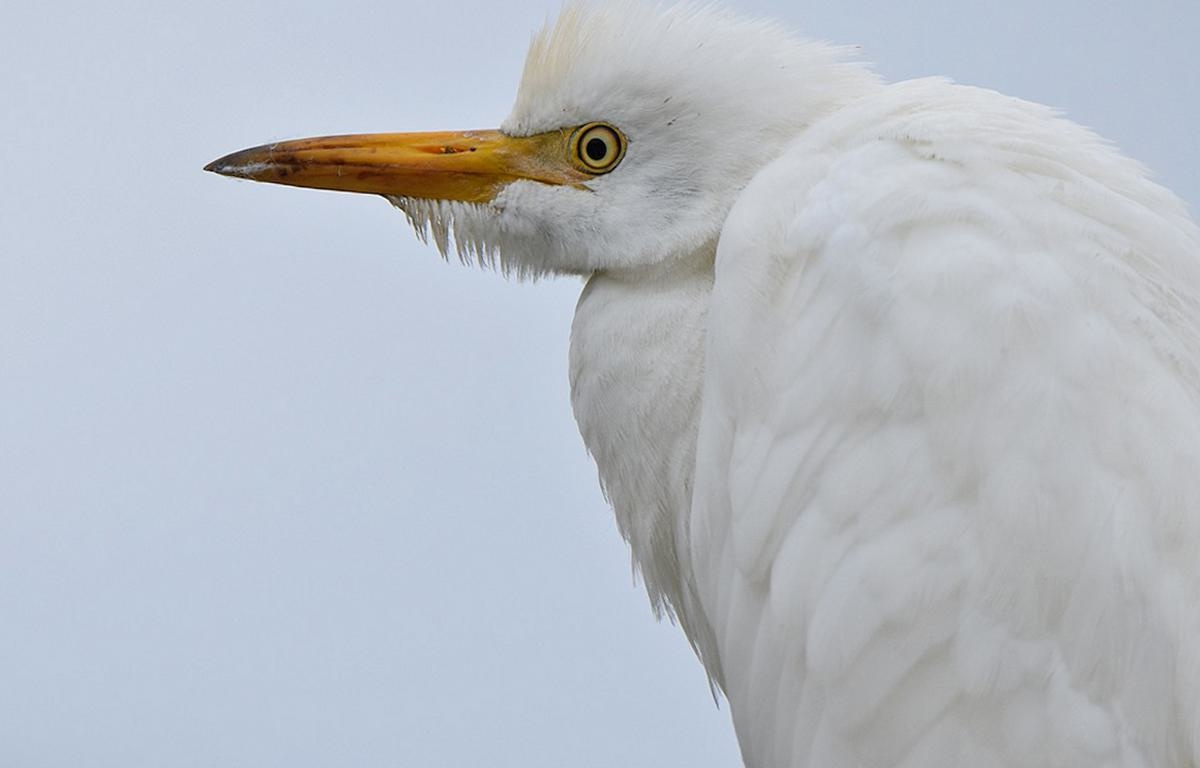egret: (201, 26, 1200, 768)
